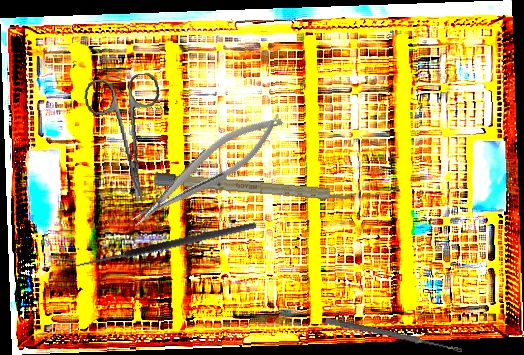Hook Surgical: (71, 220, 259, 280)
Iris Scissors: (82, 71, 174, 208)
Needle Holder: (120, 104, 292, 235)
Scalpel Handle: (153, 172, 357, 203)
Surgical Spoon: (324, 317, 464, 354)
